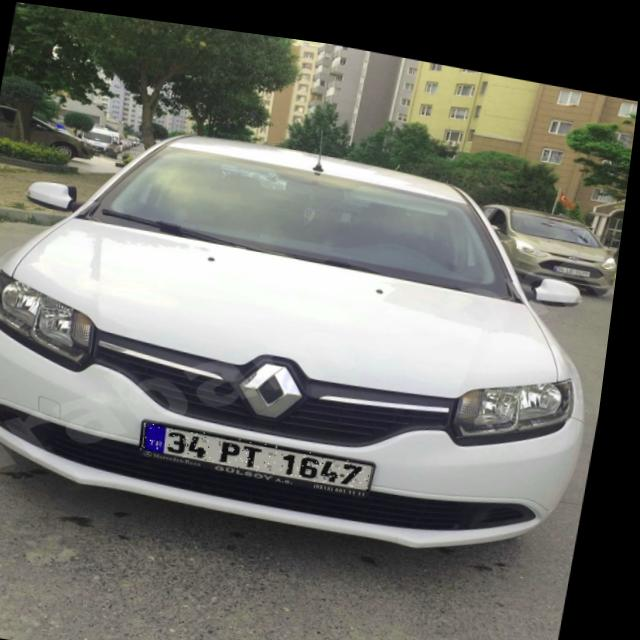license_plate: (148, 416, 385, 480)
